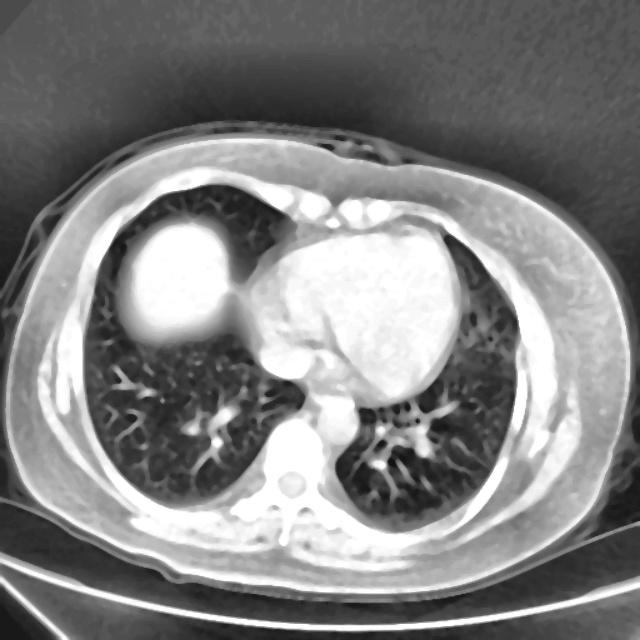covid: (1, 120, 636, 603)
